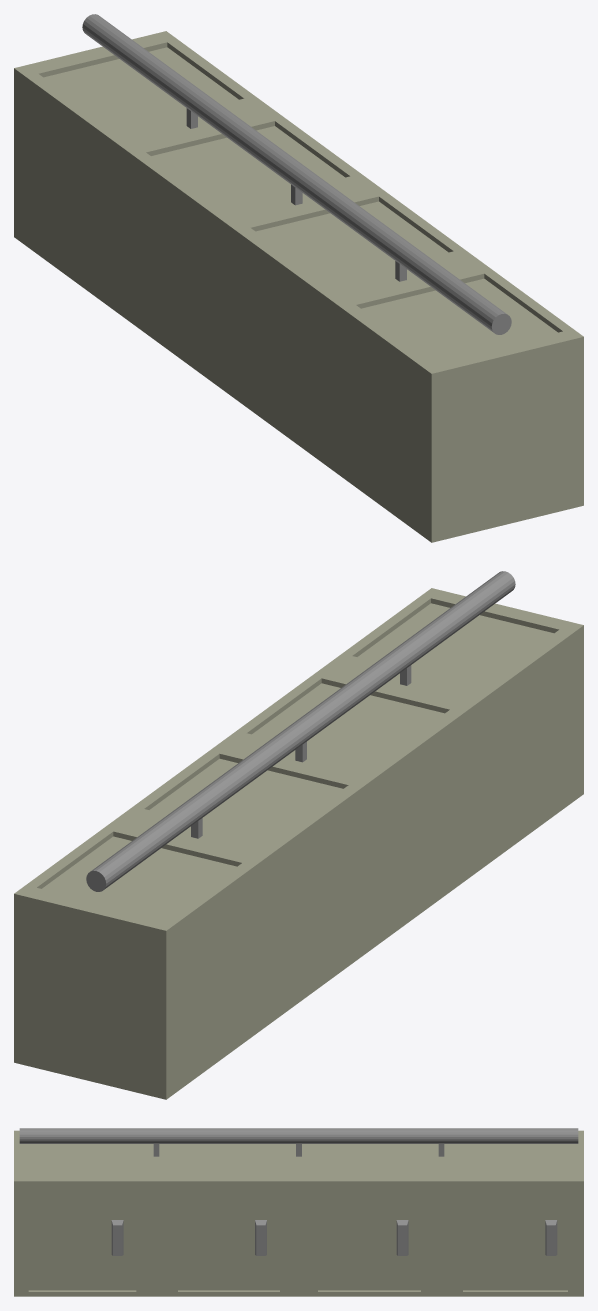
Rendered from Wall_Locker.fbx.
3 renders of one model, top to bottom at view 1: azimuth 30°, elevation 25°; view 2: azimuth 150°, elevation 25°; view 3: azimuth 270°, elevation 25°, orthographic. The views are drawn at different scales.
Visible parts, largest first — view 1: pCube11; view 2: pCube11; view 3: pCube11.
Boxes of the visible parts, bbox=[...] form: pCube11: bbox=[14, 14, 583, 542]; pCube11: bbox=[14, 571, 583, 1099]; pCube11: bbox=[14, 1128, 583, 1296].
Bounding box in the file's own units: 68.77 × 86.93 × 317.
